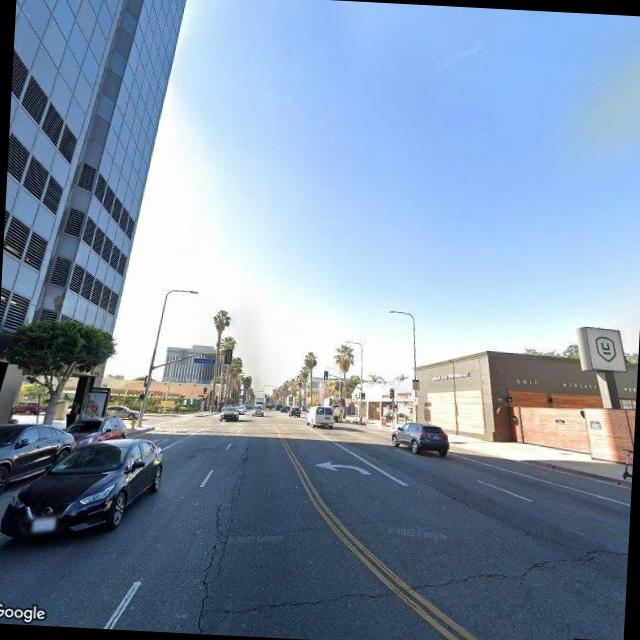crack: (198, 528, 608, 637), (188, 486, 240, 634), (232, 518, 328, 544)
